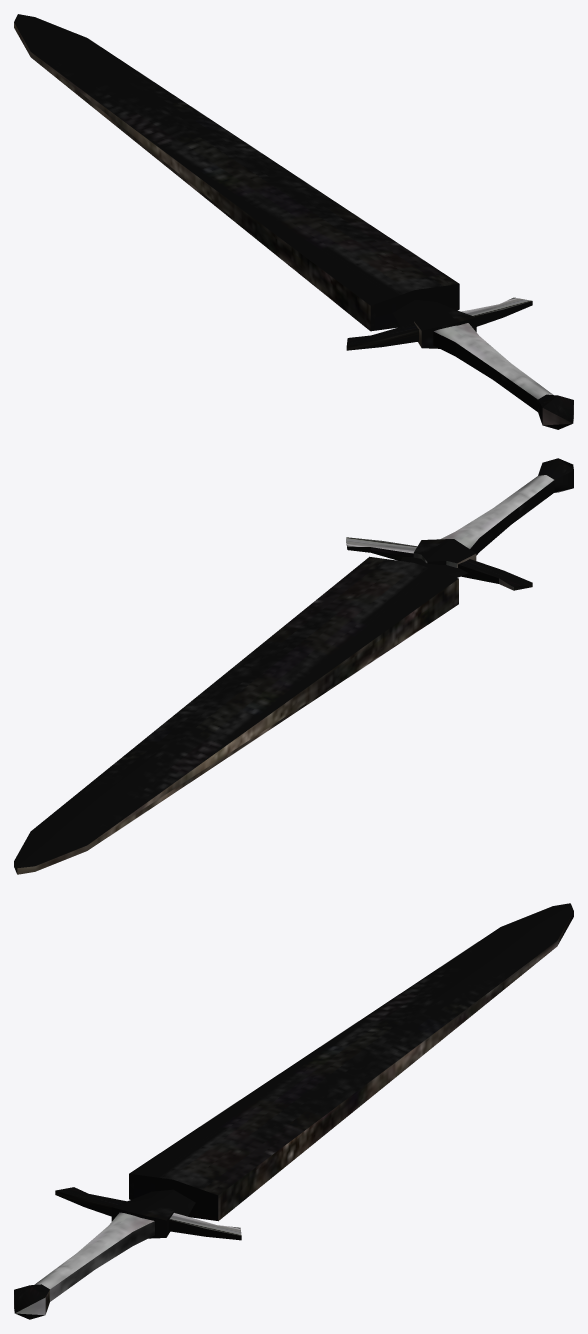
3 views of the same model, one above another, from view 1: azimuth 30°, elevation 25°; view 2: azimuth 150°, elevation 25°; view 3: azimuth 330°, elevation 25° (orthographic).
Parts seen in each view (by area): view 1: mesh_0; view 2: mesh_0; view 3: mesh_0.
Part boxes in pixels (x1=…): mesh_0: x1=14, y1=14, x2=573, y2=429; mesh_0: x1=14, y1=458, x2=573, y2=874; mesh_0: x1=14, y1=903, x2=573, y2=1319.
Bounding box in the file's own units: 8.74 × 1.58 × 45.19.
Materials: 1 (1 with a texture image).
